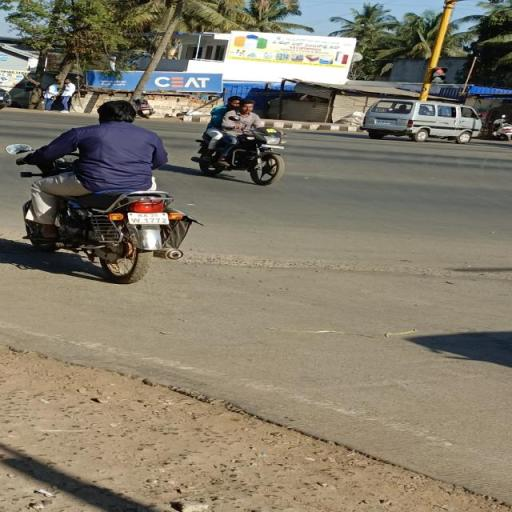bike: (7, 96, 200, 287)
numberplate: (130, 212, 168, 224)
withouthelmet: (100, 100, 136, 122)
